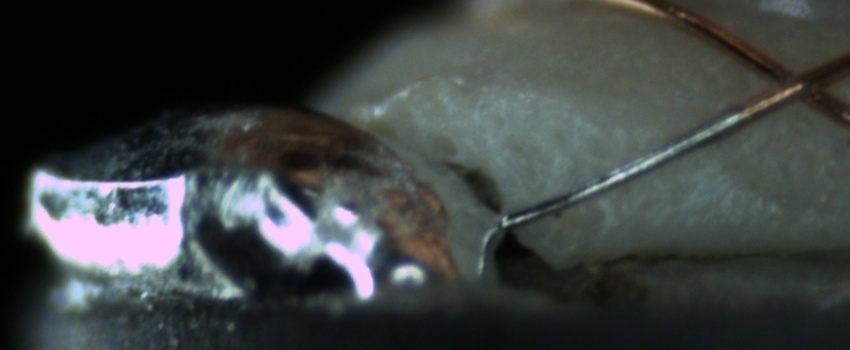CL: (745, 46, 845, 118)
TS: (498, 106, 746, 233)
